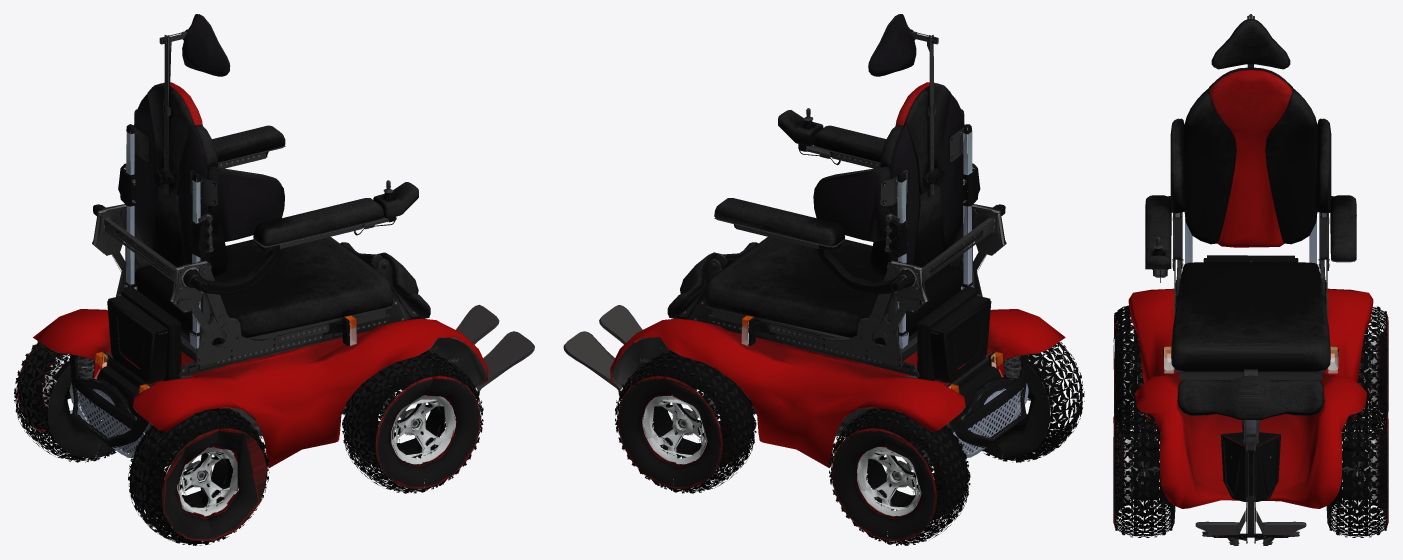
File: electric-wheelchair.glb
3 views of the same model, side by side, from view 1: azimuth 30°, elevation 25°; view 2: azimuth 150°, elevation 25°; view 3: azimuth 270°, elevation 25° (orthographic). The views are drawn at different scales.
Visible parts, largest first — view 1: _grouppasted__polySurface350pasted__polySurface101_lambert3_, polySurface130_lambert7_0, _grouppasted__polySurface350pasted__polySurface101_lambert8_, _grouppasted__polySurface350pasted__polySurface101_lambert6_, _grouppasted__polySurface350pasted__polySurface101__pasted__; view 2: _grouppasted__polySurface350pasted__polySurface101_lambert3_, polySurface130_lambert7_0, _grouppasted__polySurface350pasted__polySurface101_lambert8_, _grouppasted__polySurface350pasted__polySurface101_lambert6_; view 3: _grouppasted__polySurface350pasted__polySurface101_lambert3_, _grouppasted__polySurface350pasted__polySurface101_lambert6_, polySurface130_lambert7_0, _grouppasted__polySurface350pasted__polySurface101_lambert8_, _grouppasted__polySurface350pasted__polySurface101_lambert10.
Boxes of the visible parts, left/top/right/bottom form: _grouppasted__polySurface350pasted__polySurface101_lambert3_: left=134, top=14, right=430, bottom=344; polySurface130_lambert7_0: left=14, top=341, right=483, bottom=545; _grouppasted__polySurface350pasted__polySurface101_lambert8_: left=69, top=31, right=426, bottom=487; _grouppasted__polySurface350pasted__polySurface101_lambert6_: left=33, top=305, right=534, bottom=467; _grouppasted__polySurface350pasted__polySurface101__pasted__: left=194, top=314, right=279, bottom=366; _grouppasted__polySurface350pasted__polySurface101_lambert3_: left=667, top=14, right=964, bottom=344; polySurface130_lambert7_0: left=615, top=342, right=1084, bottom=545; _grouppasted__polySurface350pasted__polySurface101_lambert8_: left=672, top=31, right=1028, bottom=487; _grouppasted__polySurface350pasted__polySurface101_lambert6_: left=563, top=305, right=1065, bottom=467; _grouppasted__polySurface350pasted__polySurface101_lambert3_: left=1145, top=19, right=1356, bottom=419; _grouppasted__polySurface350pasted__polySurface101_lambert6_: left=1128, top=288, right=1373, bottom=536; polySurface130_lambert7_0: left=1113, top=305, right=1388, bottom=537; _grouppasted__polySurface350pasted__polySurface101_lambert8_: left=1141, top=14, right=1360, bottom=545; _grouppasted__polySurface350pasted__polySurface101_lambert10: left=1164, top=346, right=1338, bottom=370.
Size of the model in its own units: 1.06 by 1.1 by 0.6226.
Materials: 7 (5 with a texture image).
